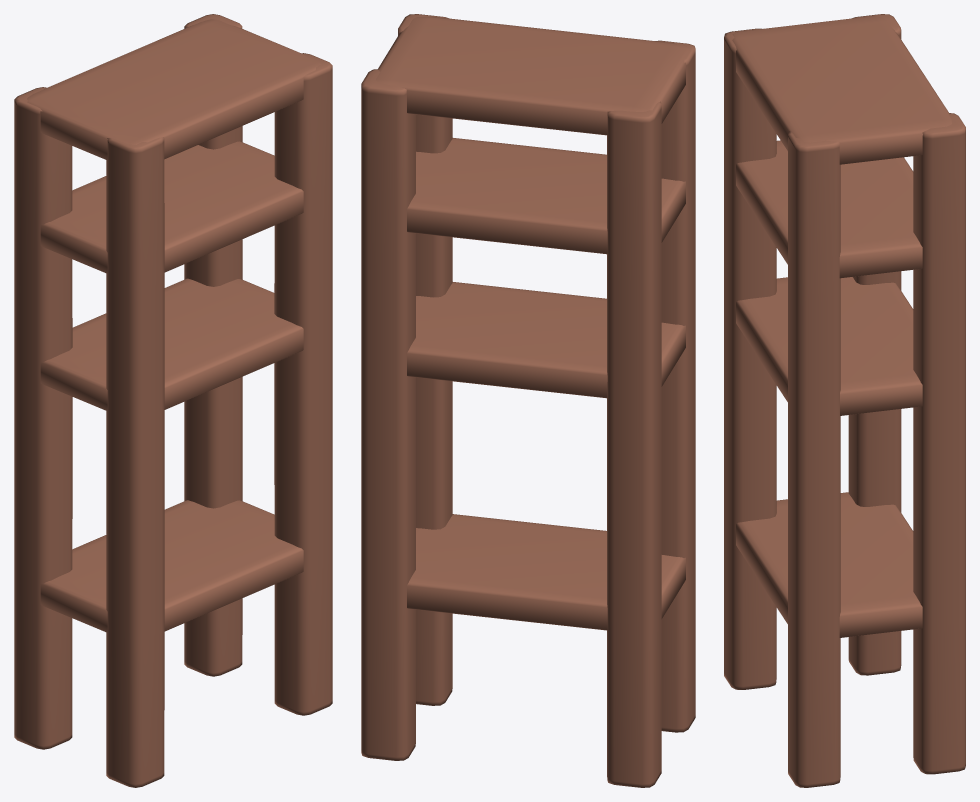
File: Standing_shelf.fbx
3 views of the same model, side by side, from view 1: azimuth 30°, elevation 25°; view 2: azimuth 150°, elevation 25°; view 3: azimuth 270°, elevation 25° (orthographic). The views are drawn at different scales.
Visible parts, largest first — view 1: Standing_shelf, Standing_shelf_part.003, Standing_shelf_part.005, Standing_shelf_part.004, Standing_shelf_part.006, Standing_shelf_part.008, Standing_shelf_part.001, Standing_shelf_part.007; view 2: Standing_shelf, Standing_shelf_part.002, Standing_shelf_part.005, Standing_shelf_part.003, Standing_shelf_part.006, Standing_shelf_part.004, Standing_shelf_part.008, Standing_shelf_part.001, Standing_shelf_part.007; view 3: Standing_shelf, Standing_shelf_part.001, Standing_shelf_part.005, Standing_shelf_part.006, Standing_shelf_part.008, Standing_shelf_part.002, Standing_shelf_part.004, Standing_shelf_part.007, Standing_shelf_part.003.
Boxes of the visible parts, box(x1,y1,x2,y2) form: Standing_shelf: box(14, 19, 332, 787); Standing_shelf_part.003: box(106, 137, 163, 787); Standing_shelf_part.005: box(27, 25, 320, 159); Standing_shelf_part.004: box(274, 53, 332, 715); Standing_shelf_part.006: box(41, 141, 303, 271); Standing_shelf_part.008: box(40, 500, 303, 632); Standing_shelf_part.001: box(184, 14, 242, 675); Standing_shelf_part.007: box(40, 329, 303, 410); Standing_shelf: box(362, 14, 692, 787); Standing_shelf_part.002: box(607, 101, 661, 787); Standing_shelf_part.005: box(378, 16, 689, 123); Standing_shelf_part.003: box(656, 40, 695, 732); Standing_shelf_part.006: box(407, 138, 685, 231); Standing_shelf_part.004: box(398, 14, 452, 705); Standing_shelf_part.008: box(407, 518, 685, 630); Standing_shelf_part.001: box(361, 69, 406, 760); Standing_shelf_part.007: box(551, 325, 685, 398); Standing_shelf: box(724, 14, 965, 787); Standing_shelf_part.001: box(913, 113, 965, 774); Standing_shelf_part.005: box(732, 16, 949, 150); Standing_shelf_part.006: box(736, 140, 922, 269); Standing_shelf_part.008: box(738, 492, 922, 637); Standing_shelf_part.002: box(852, 14, 901, 675); Standing_shelf_part.004: box(788, 131, 840, 785); Standing_shelf_part.007: box(736, 277, 922, 415); Standing_shelf_part.003: box(724, 28, 761, 685).
Size of the model in its own units: 118 by 262 by 89.31.
